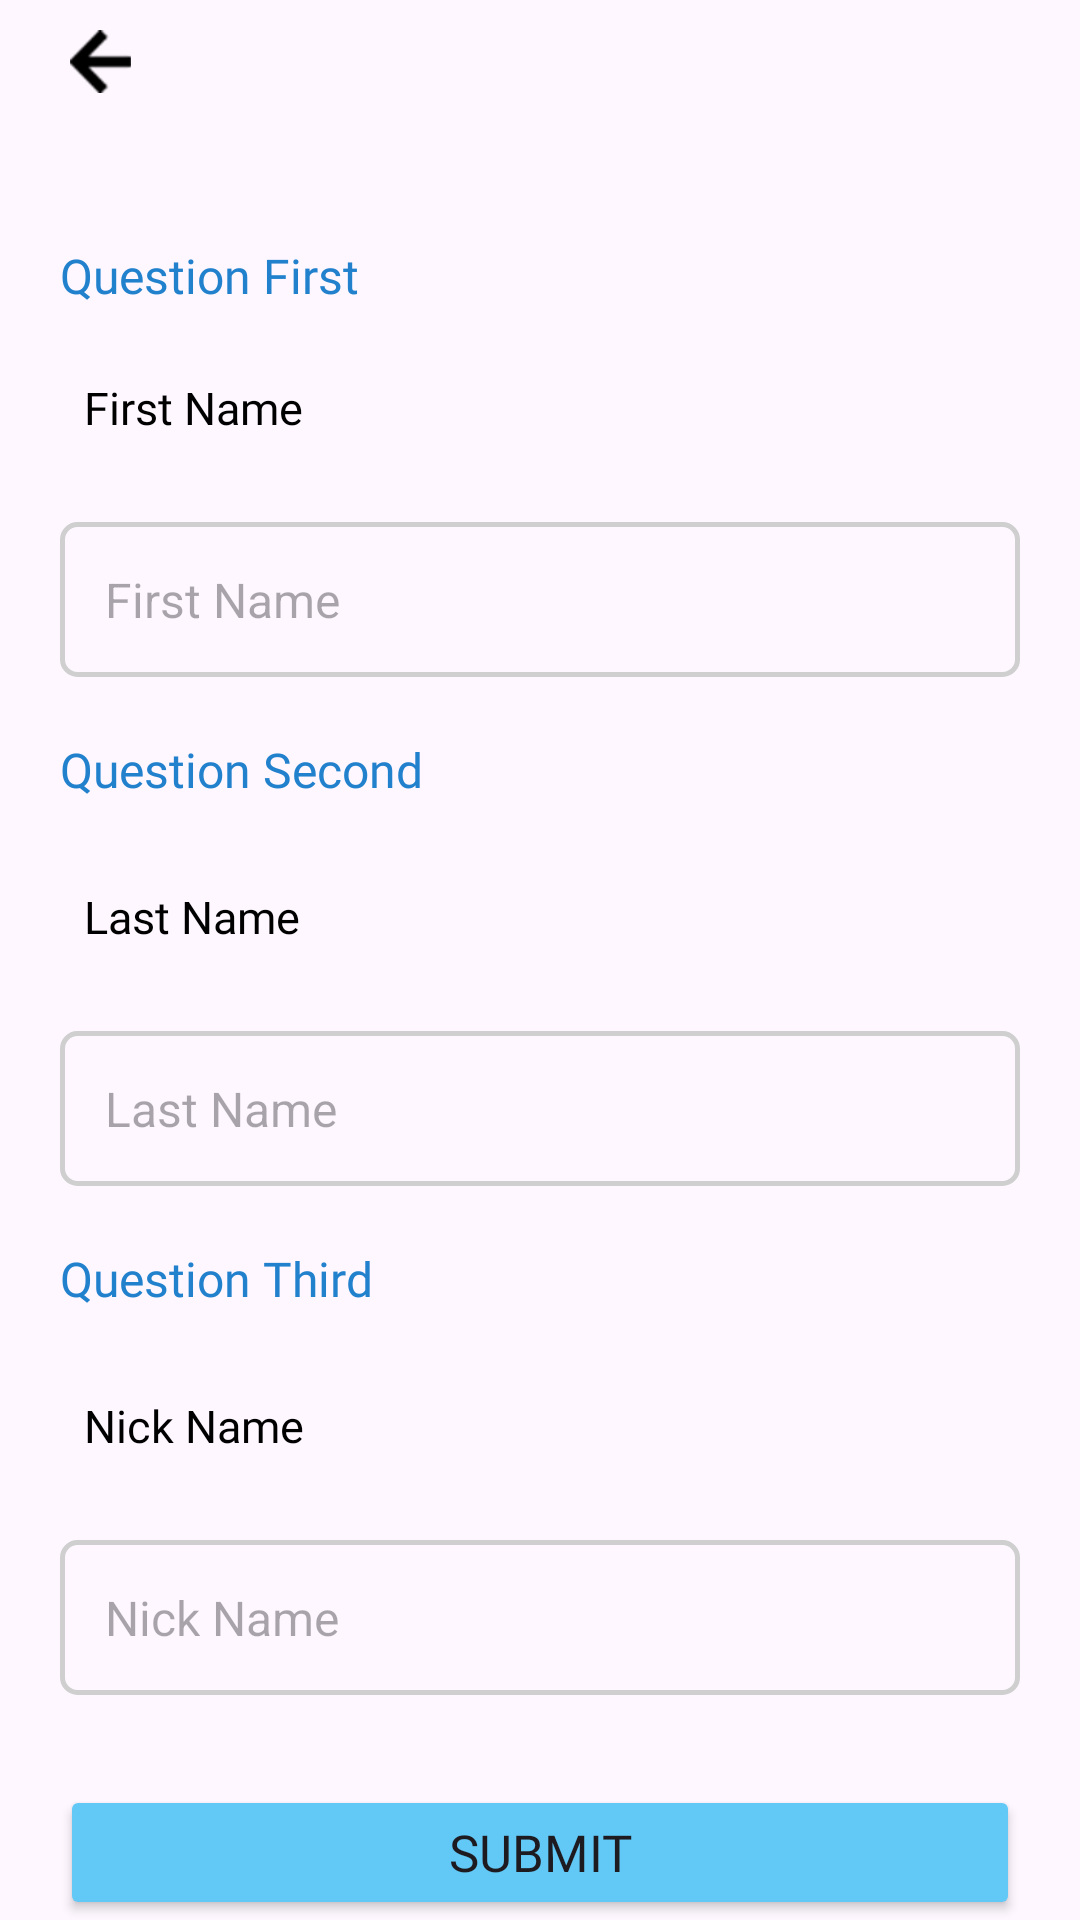

Named icons in this screenshot (1080×1920) and their centers, (x,y):
arrow: (100,61)
